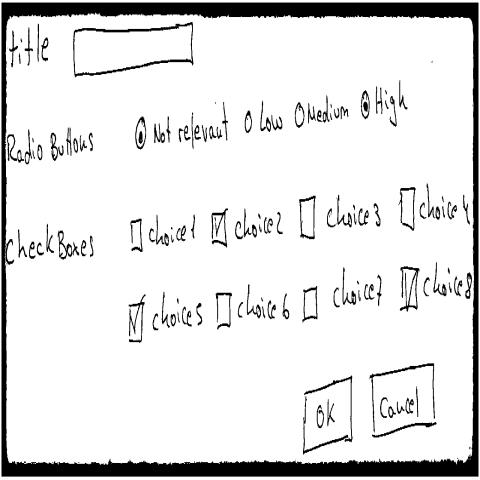Button: (369, 358, 439, 443), (302, 372, 356, 457)
Check Box: (298, 188, 382, 252), (303, 264, 384, 328), (400, 248, 474, 314), (400, 173, 471, 239), (126, 290, 205, 348), (216, 276, 292, 331), (211, 199, 285, 253), (129, 212, 198, 257)
Heading: (8, 21, 54, 73)
Radio Button: (134, 94, 231, 159), (359, 72, 408, 128)
Textbox: (73, 19, 197, 84)
